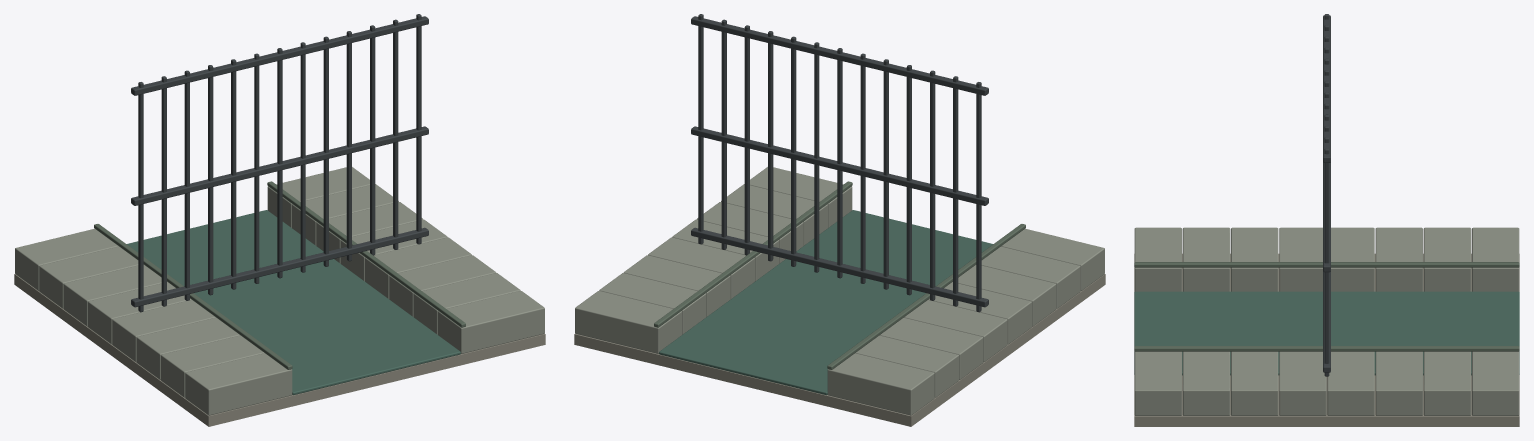
The model's file is undercity-sewers-and-thieves-den-iron-grille-wall-65acbc76__25016.glb.
3 renders of one model, left to right at view 1: azimuth 30°, elevation 25°; view 2: azimuth 150°, elevation 25°; view 3: azimuth 270°, elevation 25°, orthographic.
Parts seen in each view (by area): view 1: iron-grille-wall; view 2: iron-grille-wall; view 3: iron-grille-wall.
Part boxes in pixels (left/top/right/bottom): iron-grille-wall: left=14, top=14, right=545, bottom=426; iron-grille-wall: left=574, top=14, right=1105, bottom=426; iron-grille-wall: left=1134, top=14, right=1519, bottom=426.
Size of the model in its own units: 4 by 3.02 by 4.
